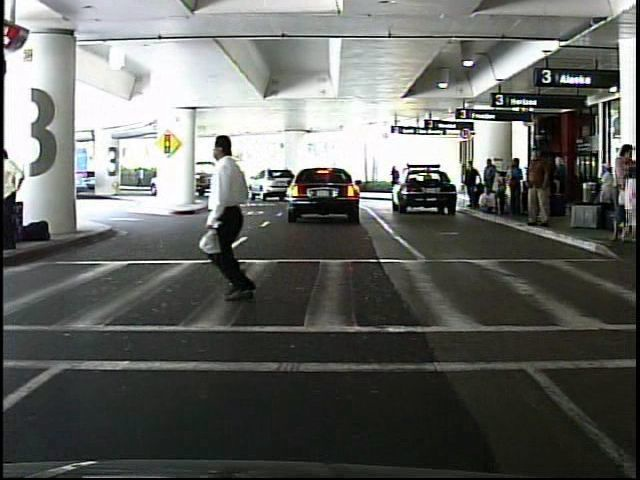person: (198, 130, 272, 310), (522, 143, 555, 230), (462, 160, 481, 210), (388, 163, 403, 200), (134, 163, 146, 189)
